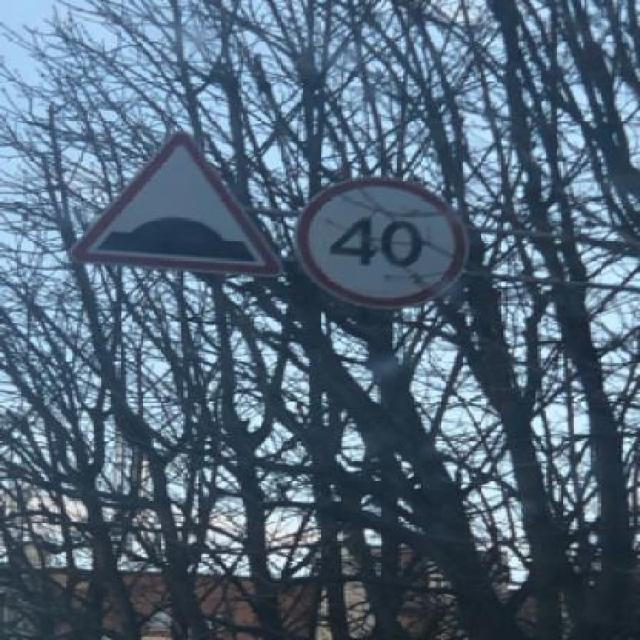forb_speed_over_40: (293, 179, 473, 308)
